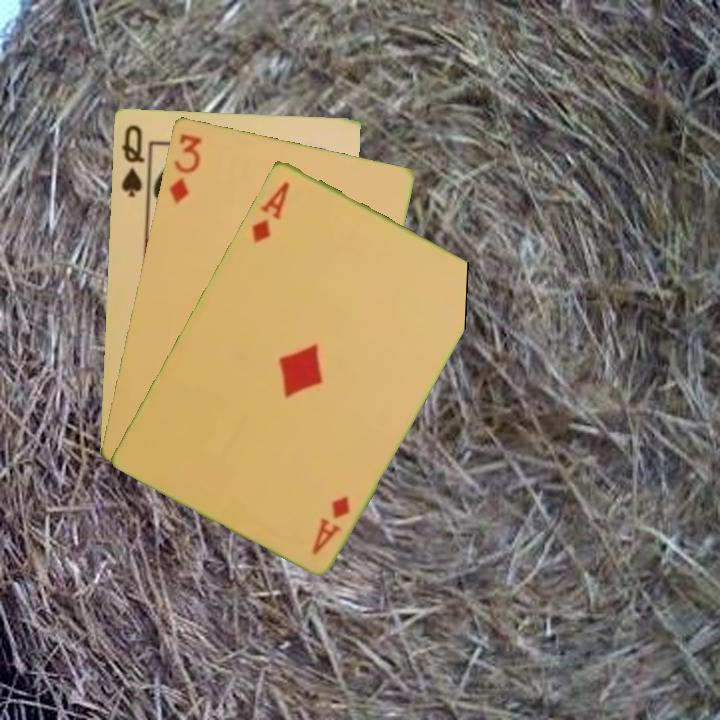3d: (164, 130, 205, 206)
Ad: (247, 177, 293, 246), (308, 491, 353, 558)
Qs: (117, 121, 147, 200)
